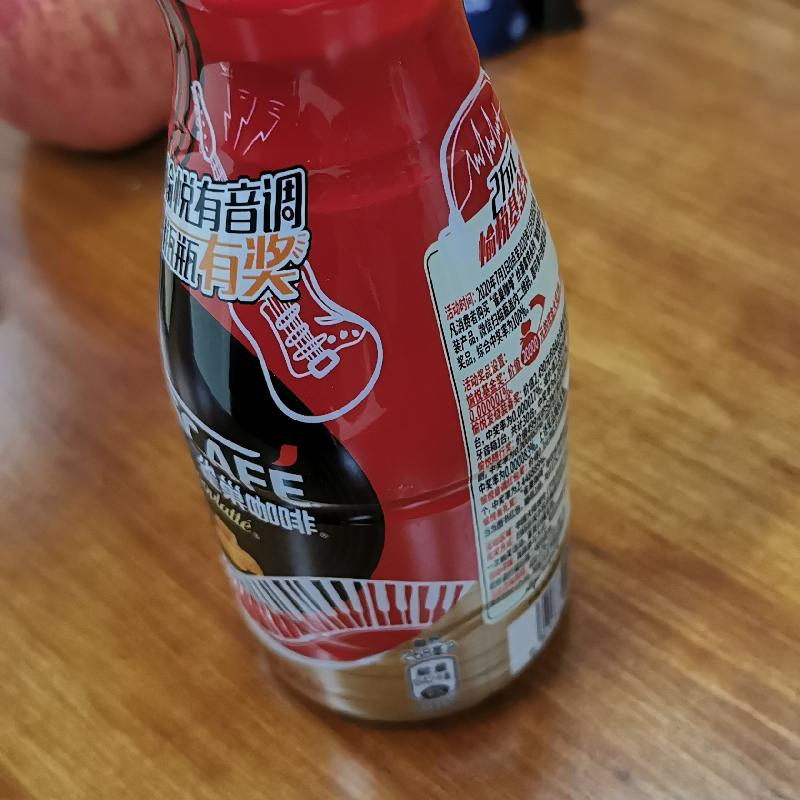bottles: (149, 0, 585, 725)
